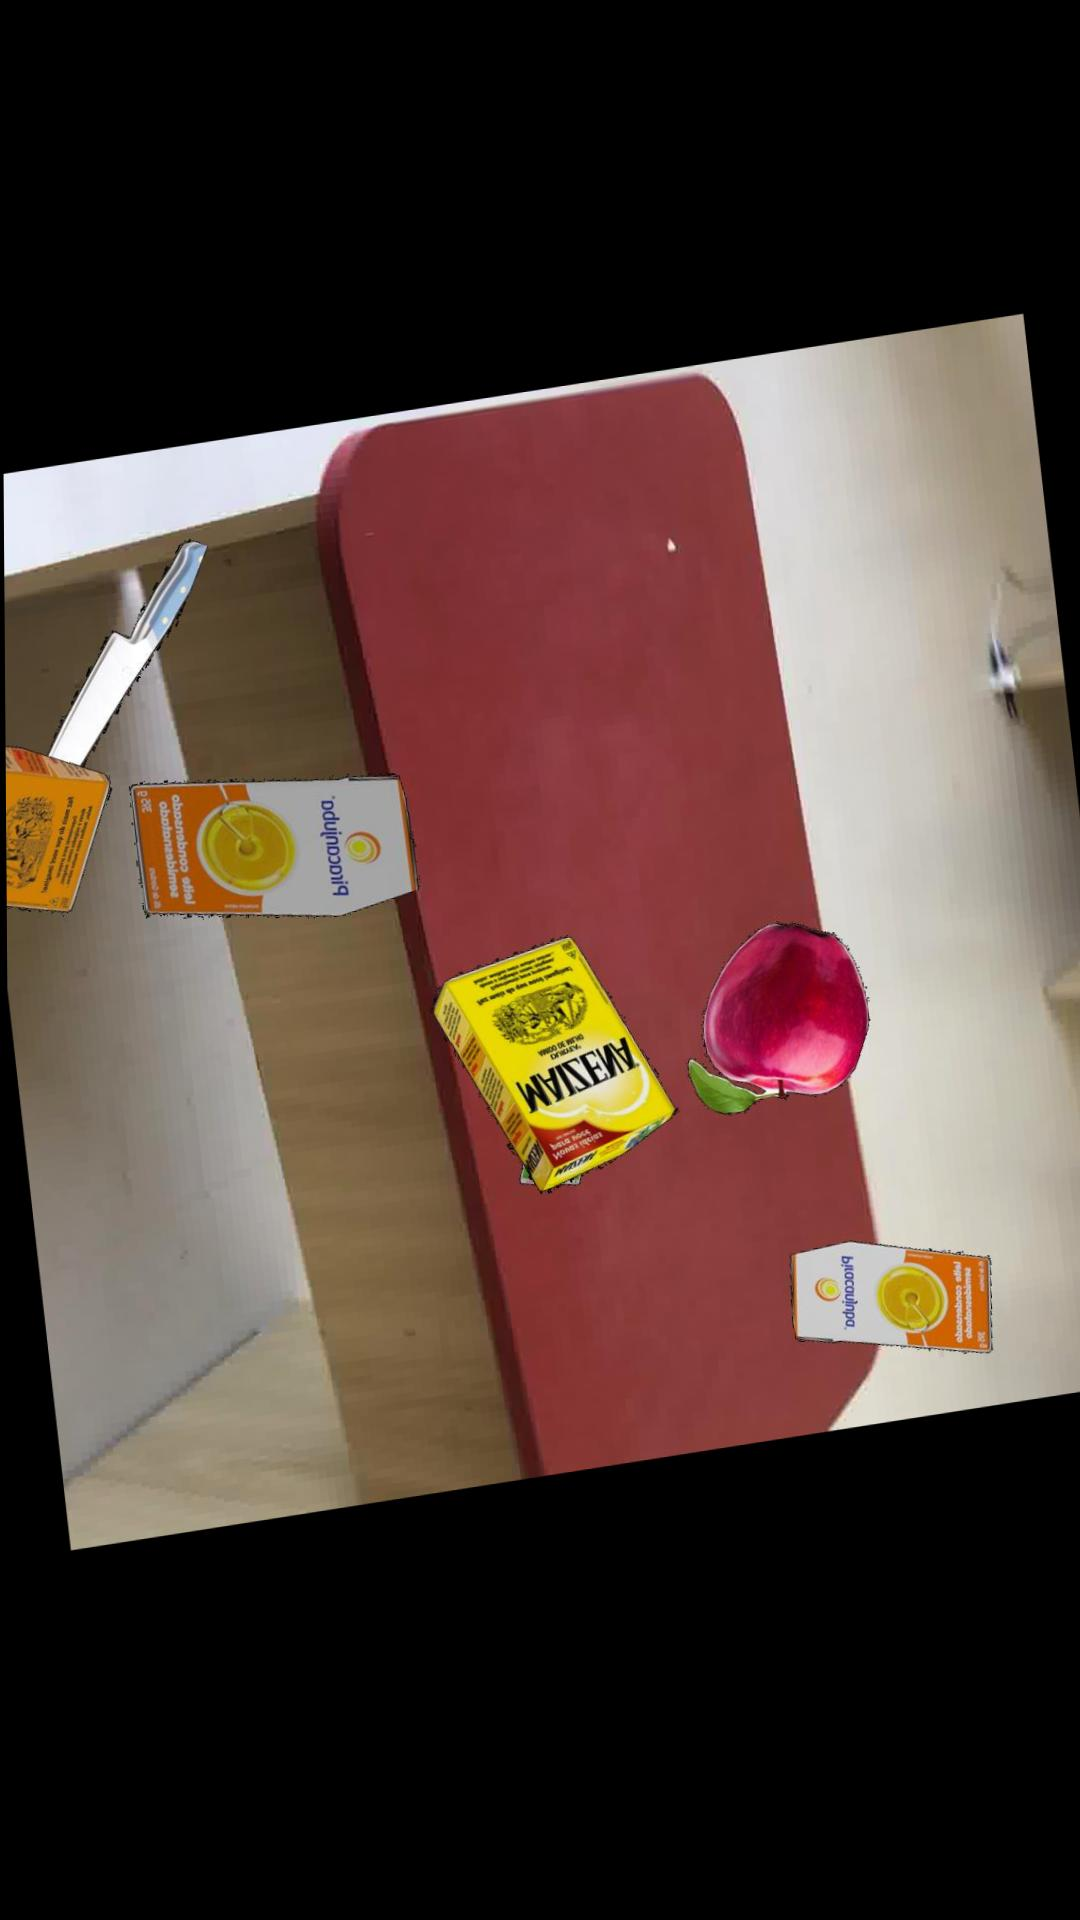apple: (687, 930, 869, 1121)
knife: (47, 539, 207, 765)
pringles: (518, 1168, 580, 1189)
